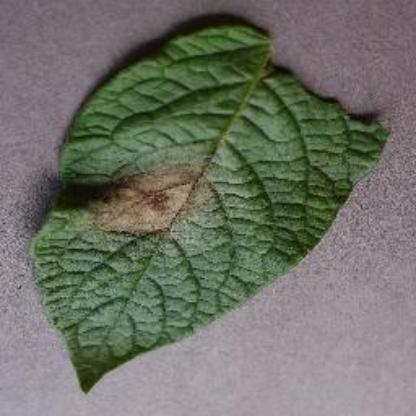Late-Blight: (23, 16, 394, 404)
